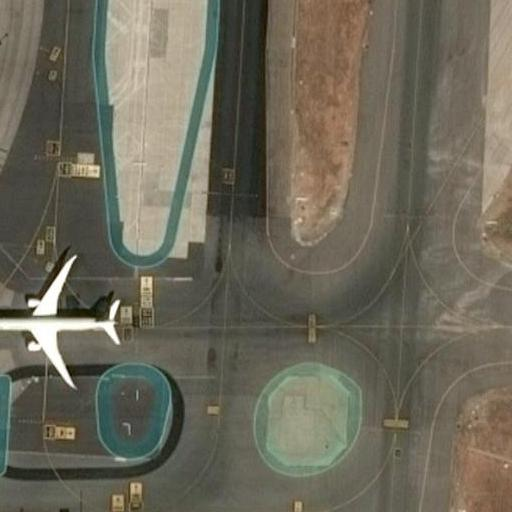Aircraft: (0, 250, 119, 389)
